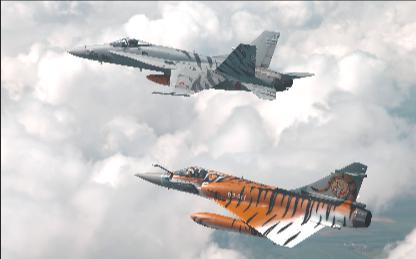F15: (67, 30, 315, 100)
Mirage2000: (133, 162, 371, 248)
